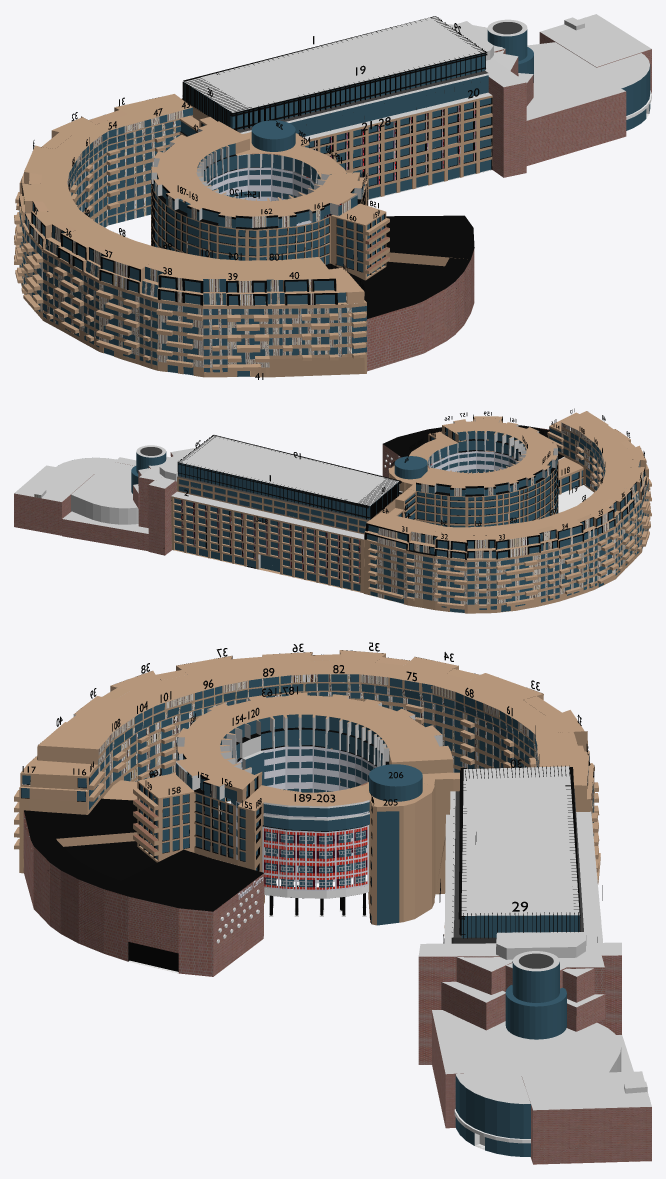
The model's file is TelevisionCentre.glb.
The picture shows the model from 3 angles, top to bottom: view 1: azimuth 30°, elevation 25°; view 2: azimuth 150°, elevation 25°; view 3: azimuth 270°, elevation 25°; orthographic projection. The views are drawn at different scales.
Parts seen in each view (by area): view 1: C, Centre Circle, map.osm_buildings.003, Roof, Cube.002, Cylinder.001, Cube.004, Cube.001, A_20, Cube.005, A_19, C_8 (+22 smaller); view 2: C, Centre Circle, Cube.002, Roof, Cylinder.001, Cube.005, A_1, Cube, Cube.006, C_2, Cube.001, A_2 (+15 smaller); view 3: Centre Circle, C, map.osm_buildings.003, Roof, Cylinder.001, Cube.005, Cube.001, Cube.002, Cube.004, F_16, Cylinder.002, Cylinder.003 (+12 smaller).
Part boxes in pixels (x1,y1,x2,y2): C: (14,94,366,377); Centre Circle: (151,121,389,280); map.osm_buildings.003: (316,215,474,371); Roof: (184,16,484,112); Cube.002: (303,92,492,199); Cylinder.001: (526,42,651,130); Cube.004: (526,85,626,165); Cube.001: (485,58,526,177); A_20: (289,75,488,136); Cube.005: (539,14,651,93); A_19: (232,53,485,129); C_8: (160,277,227,364); C: (364,411,651,613); Centre Circle: (389,416,558,527); Cube.002: (171,491,364,593); Roof: (179,435,398,505); Cylinder.001: (56,457,138,524); Cube.005: (14,465,94,535); A_1: (178,463,370,519); Cube: (177,476,402,534); Cube.006: (62,511,148,551); C_2: (436,540,496,604); Cube.001: (148,476,176,555); A_2: (179,479,366,532); Centre Circle: (133,692,453,925); C: (14,650,600,884); map.osm_buildings.003: (23,798,264,976); Roof: (461,766,579,915); Cylinder.001: (453,1015,621,1156); Cube.005: (521,1071,651,1164); Cube.001: (418,942,621,1064); Cube.002: (444,811,602,943); Cube.004: (432,1010,465,1128); F_16: (377,811,399,925); Cylinder.002: (505,985,566,1039); Cylinder.003: (512,951,559,1002).
Bounding box in the file's own units: 308 × 53.53 × 205.
77 materials, 6 textured.
